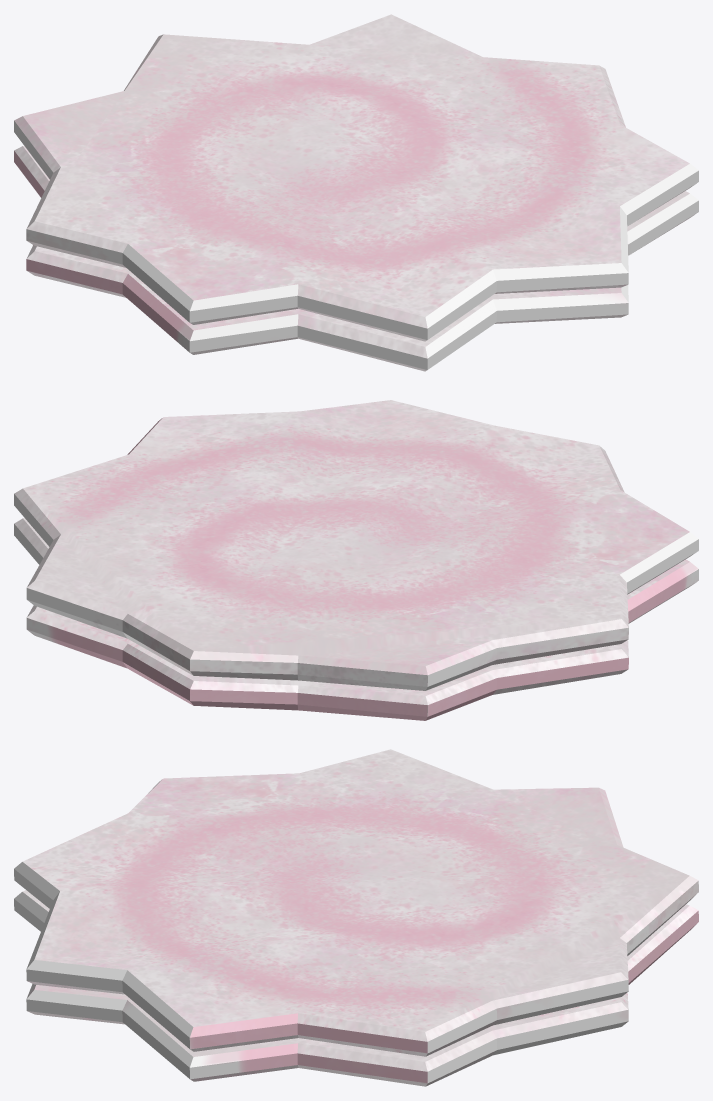
File: swirl.fbx
The picture shows the model from 3 angles, top to bottom: view 1: azimuth 30°, elevation 25°; view 2: azimuth 150°, elevation 25°; view 3: azimuth 270°, elevation 25°; orthographic projection.
Visible parts, largest first — view 1: Circle; view 2: Circle; view 3: Circle.
Part boxes in pixels (box(x1,y1,x2,y2)): Circle: box(14, 14, 698, 371); Circle: box(14, 400, 698, 720); Circle: box(14, 749, 698, 1086).
Size of the model in its own units: 56.38 by 6.83 by 56.01.
